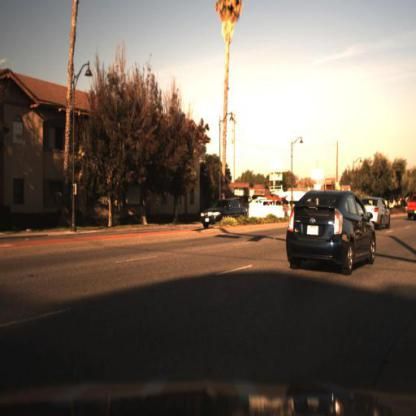car: (284, 186, 376, 278), (198, 194, 249, 230), (197, 196, 250, 228), (359, 196, 390, 232), (405, 188, 416, 223)
